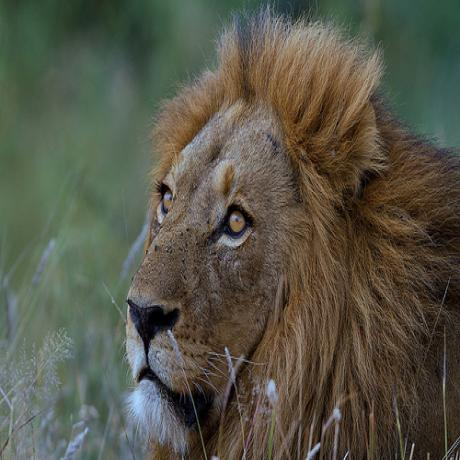Lion: (119, 0, 460, 460)
